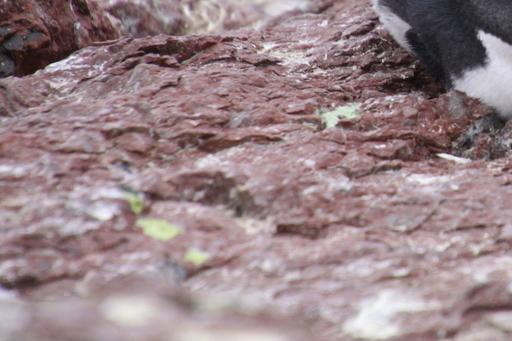Southern Rockhopper Penguin: (312, 0, 512, 141)
